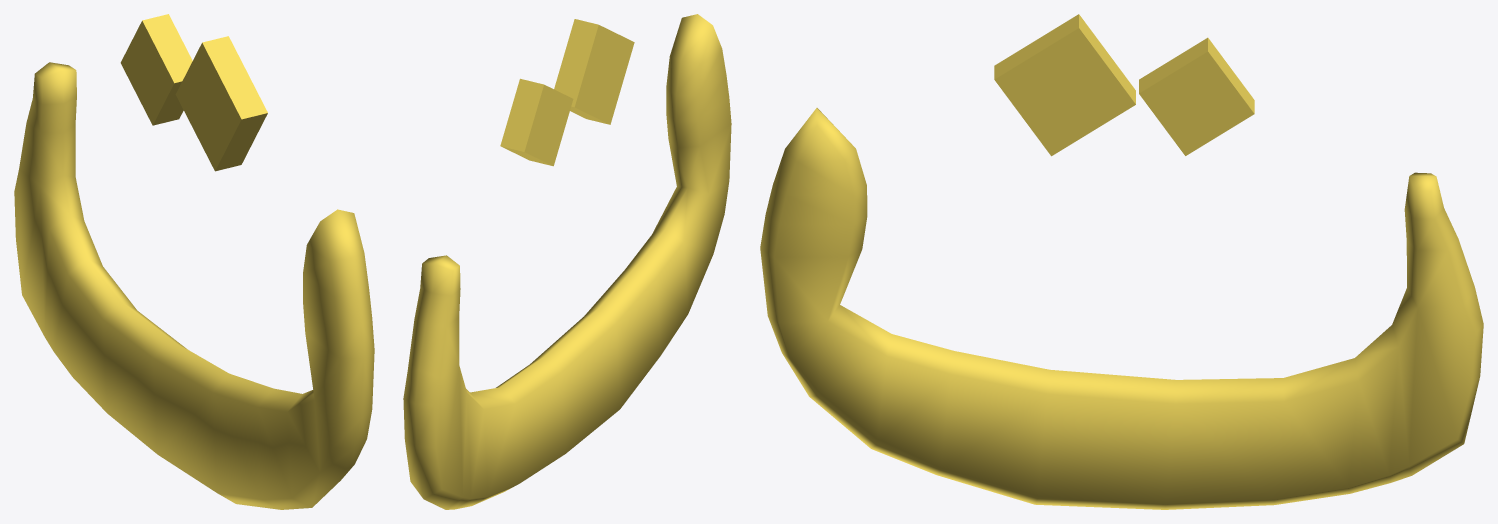
3 views of the same model, side by side, from view 1: azimuth 30°, elevation 25°; view 2: azimuth 150°, elevation 25°; view 3: azimuth 270°, elevation 25° (orthographic). The views are drawn at different scales.
Visible parts, largest first — view 1: te; view 2: te; view 3: te.
Part boxes in pixels (x1,y1,x2,y2): te: (14,14,374,509); te: (403,14,731,509); te: (760,14,1483,509).
Size of the model in its own units: 12.85 by 212 by 158.
1 material, 1 textured.
